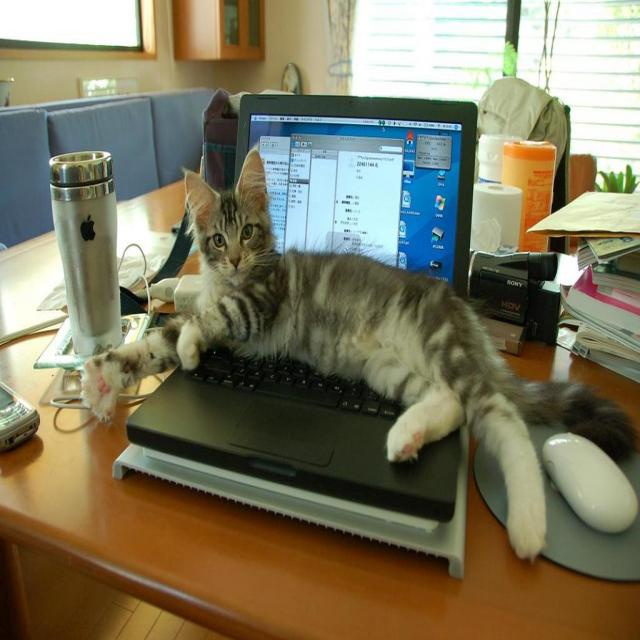desk: (0, 164, 639, 639)
mouse: (541, 432, 639, 536)
